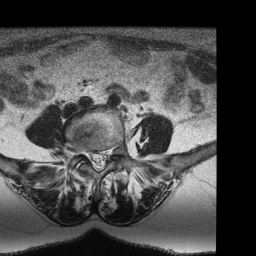CCS_normal: (94, 141, 102, 178)
LFS_normal: (109, 137, 118, 165)
LLS_normal: (102, 141, 109, 171)
RFS_normal: (79, 139, 87, 162)
RLS_normal: (87, 141, 94, 172)
